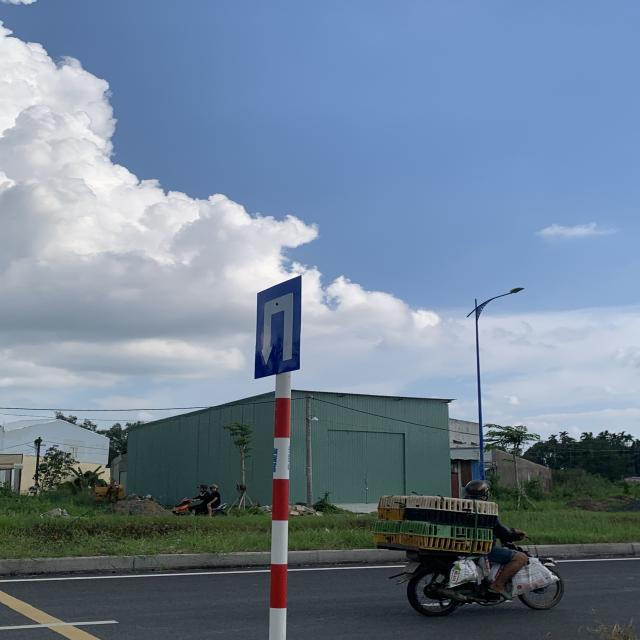Den_Giao_Thong: (256, 275, 299, 380)
